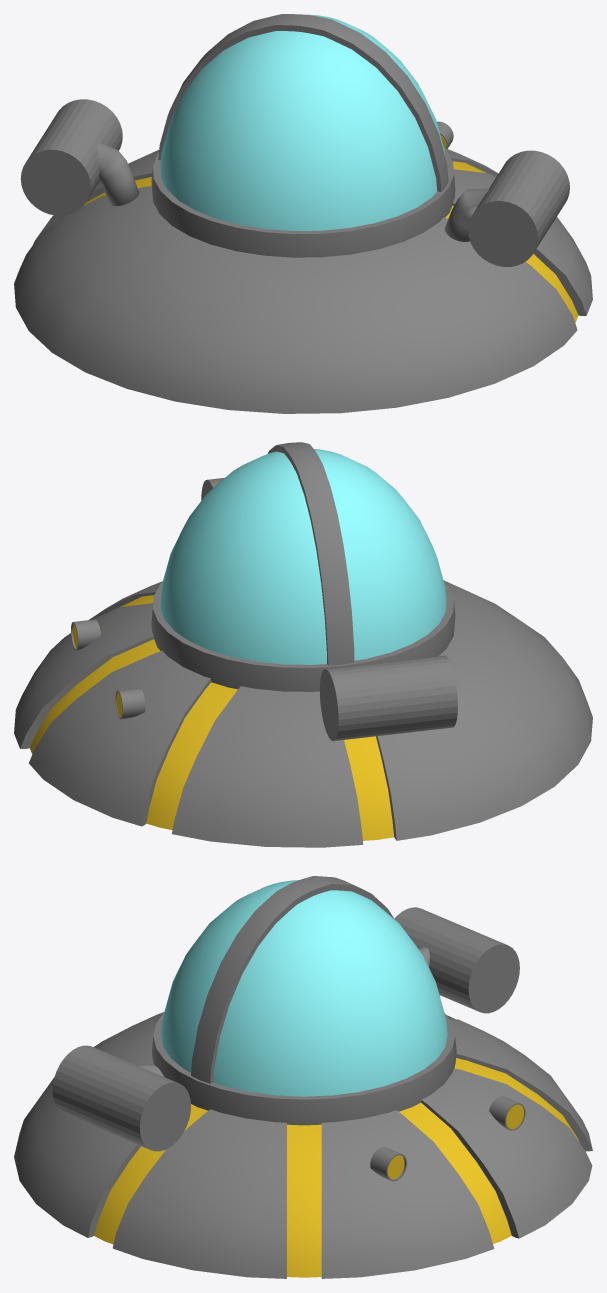
The model's file is RickAndMorty skib.fbx.
3 renders of one model, top to bottom at view 1: azimuth 30°, elevation 25°; view 2: azimuth 150°, elevation 25°; view 3: azimuth 270°, elevation 25°, orthographic.
Visible parts, largest first — view 1: terlarken, kubbel, kubbel.001, Cylinder.004, Cylinder.006, metaltop, Cylinder.007, Cylinder.005, gullys.001; view 2: terlarken, kubbel, Cylinder.006, kubbel.001, metaltop, gullys, gullys.002, gullys.003, Cylinder.001, Cylinder.002; view 3: terlarken, kubbel, Cylinder.004, kubbel.001, Cylinder.006, metaltop, gullys.004, gullys.003, gullys.001, gullys, Cylinder.002, Cylinder.001.
Part boxes in pixels (<box>): terlarken: <box>14,148,592,413</box>; kubbel: <box>160,14,445,230</box>; kubbel.001: <box>151,148,455,257</box>; Cylinder.004: <box>468,150,569,266</box>; Cylinder.006: <box>20,99,122,215</box>; metaltop: <box>158,14,448,191</box>; Cylinder.007: <box>97,142,139,206</box>; Cylinder.005: <box>444,188,489,241</box>; gullys.001: <box>445,205,578,322</box>; terlarken: <box>14,580,592,847</box>; kubbel: <box>160,449,446,664</box>; Cylinder.006: <box>319,655,457,740</box>; kubbel.001: <box>151,582,455,691</box>; metaltop: <box>268,442,354,665</box>; gullys: <box>146,682,237,829</box>; gullys.002: <box>344,736,393,840</box>; gullys.003: <box>30,639,160,753</box>; Cylinder.001: <box>115,688,145,719</box>; Cylinder.002: <box>71,619,100,650</box>; terlarken: <box>14,1012,592,1278</box>; kubbel: <box>160,880,447,1096</box>; Cylinder.004: <box>52,1045,190,1151</box>; kubbel.001: <box>152,1013,456,1125</box>; Cylinder.006: <box>394,907,519,1013</box>; metaltop: <box>191,876,394,1083</box>; gullys.004: <box>287,1124,321,1277</box>; gullys.003: <box>399,1103,511,1243</box>; gullys.001: <box>94,1104,207,1244</box>; gullys: <box>454,1058,579,1142</box>; Cylinder.002: <box>370,1147,407,1181</box>; Cylinder.001: <box>489,1096,525,1130</box>.
Size of the model in its own units: 1994 by 1041 by 1995.
